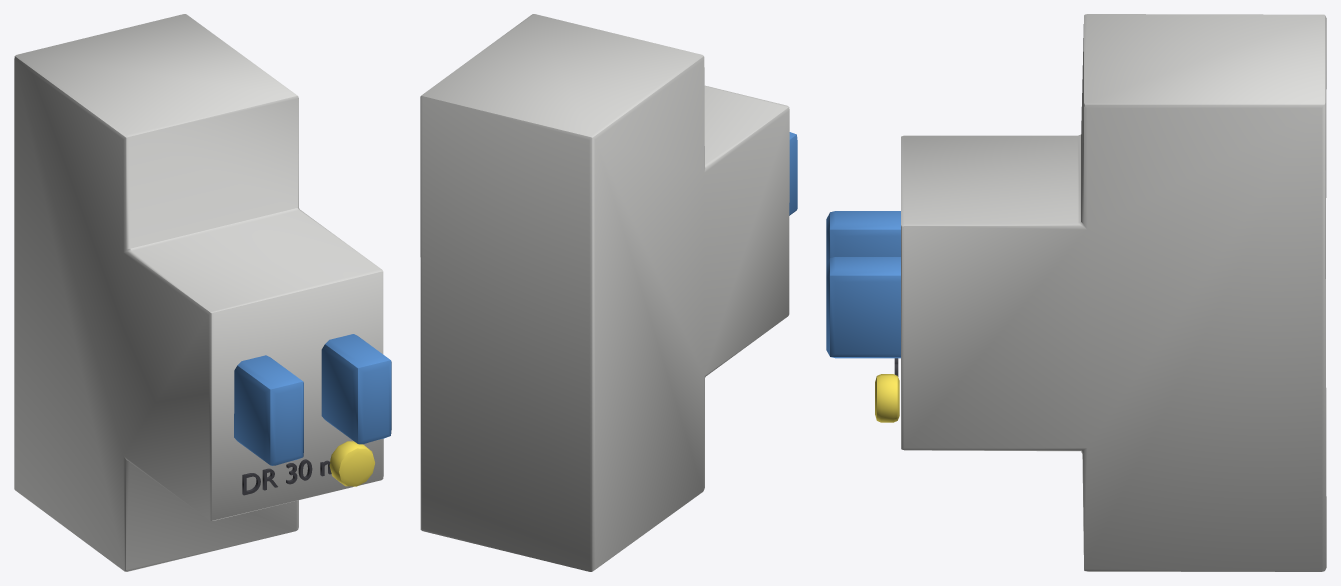
Rendered from ELE-QDR-006_lod1.glb.
3 renders of one model, left to right at view 1: azimuth 30°, elevation 25°; view 2: azimuth 150°, elevation 25°; view 3: azimuth 270°, elevation 25°, orthographic. The views are drawn at different scales.
Parts seen in each view (by area): view 1: ELE-QDR-006_corpo, ELE-QDR-006_alavanca1, ELE-QDR-006_alavanca0, ELE-QDR-006_teste, ELE-QDR-006_texto; view 2: ELE-QDR-006_corpo, ELE-QDR-006_alavanca0; view 3: ELE-QDR-006_corpo, ELE-QDR-006_alavanca1, ELE-QDR-006_alavanca0, ELE-QDR-006_teste.
Part boxes in pixels (bbox=[...]): ELE-QDR-006_corpo: bbox=[14, 14, 383, 571]; ELE-QDR-006_alavanca1: bbox=[321, 334, 391, 444]; ELE-QDR-006_alavanca0: bbox=[234, 355, 303, 465]; ELE-QDR-006_teste: bbox=[329, 441, 374, 486]; ELE-QDR-006_texto: bbox=[242, 459, 331, 495]; ELE-QDR-006_corpo: bbox=[420, 14, 789, 571]; ELE-QDR-006_alavanca0: bbox=[789, 132, 797, 215]; ELE-QDR-006_corpo: bbox=[901, 14, 1326, 571]; ELE-QDR-006_alavanca1: bbox=[826, 257, 900, 358]; ELE-QDR-006_alavanca0: bbox=[826, 211, 900, 264]; ELE-QDR-006_teste: bbox=[875, 374, 899, 422].
Bounding box in the file's own units: 0.0356 × 0.085 × 0.082.
